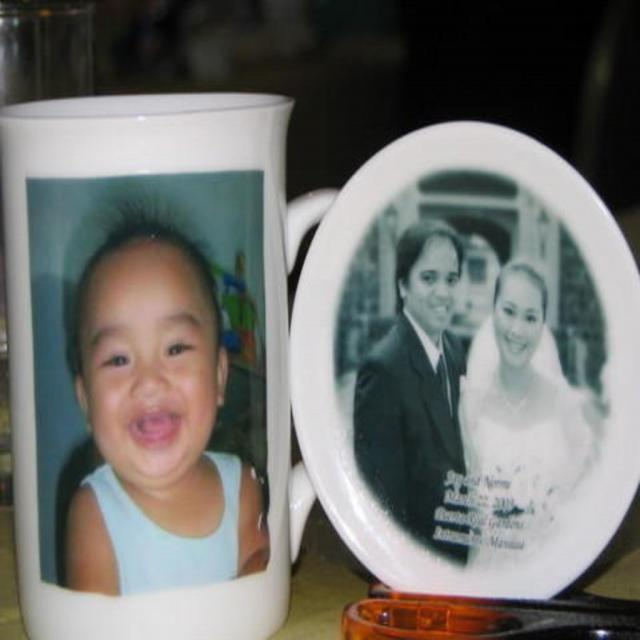ceramic plate: (0, 91, 302, 640)
